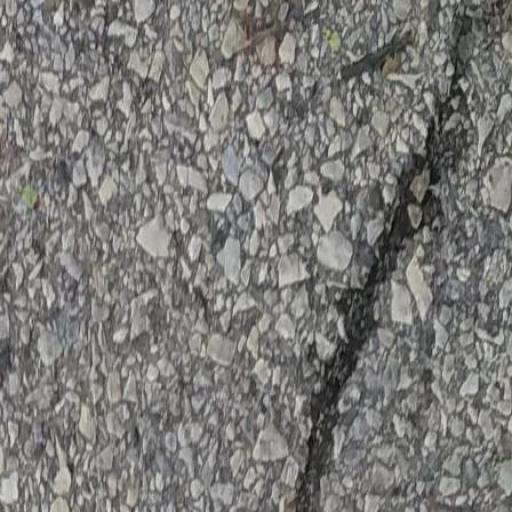spalling: (289, 11, 490, 512)
